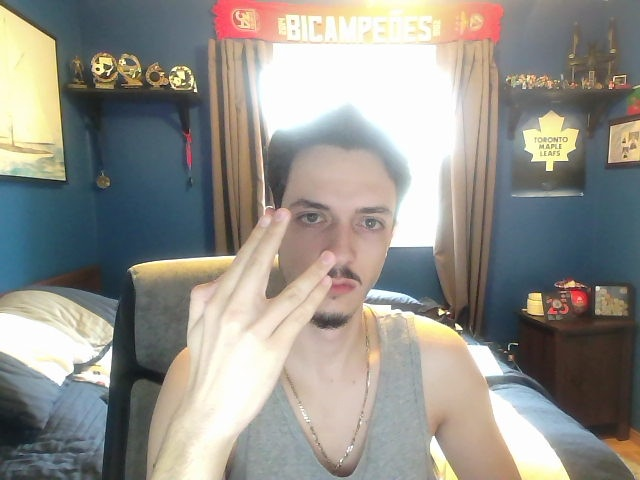LiveLong: (185, 206, 337, 434)
